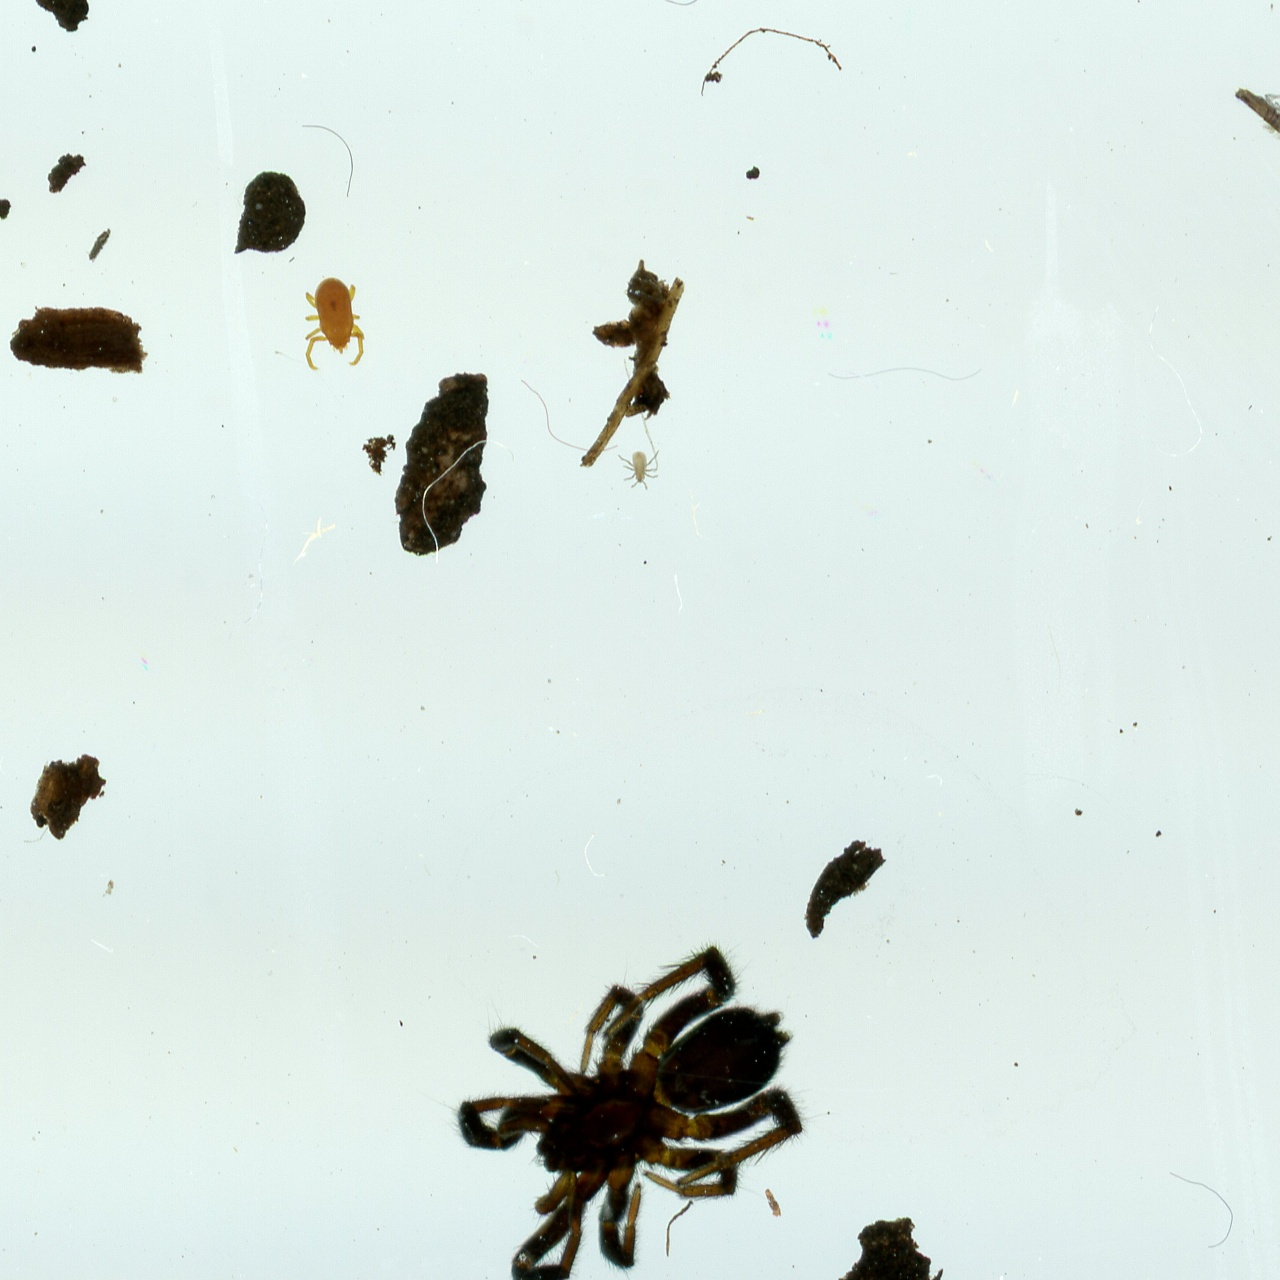arthropod: (342, 844, 892, 1280), (1194, 39, 1280, 183), (299, 271, 368, 375), (615, 449, 662, 491)
